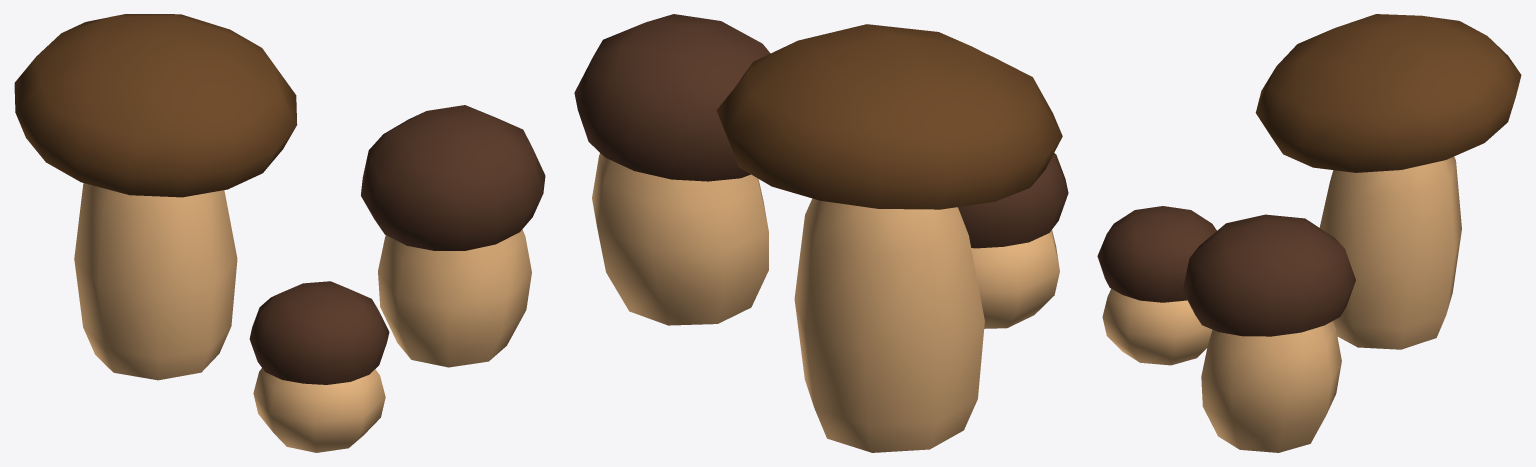
The model's file is Bay_Bolete_Group_2.fbx.
The picture shows the model from 3 angles, left to right: view 1: azimuth 30°, elevation 25°; view 2: azimuth 150°, elevation 25°; view 3: azimuth 270°, elevation 25°; orthographic projection. The views are drawn at different scales.
Parts seen in each view (by area): view 1: Bay_Bolete_Group_2; view 2: Bay_Bolete_Group_2; view 3: Bay_Bolete_Group_2.
Boxes of the visible parts, x1,y1,x2,y2 form: Bay_Bolete_Group_2: [14, 14, 545, 452]; Bay_Bolete_Group_2: [574, 14, 1068, 452]; Bay_Bolete_Group_2: [1097, 14, 1521, 452].
Size of the model in its own units: 51.01 by 35.84 by 45.88.
Materials: 1 (1 with a texture image).
